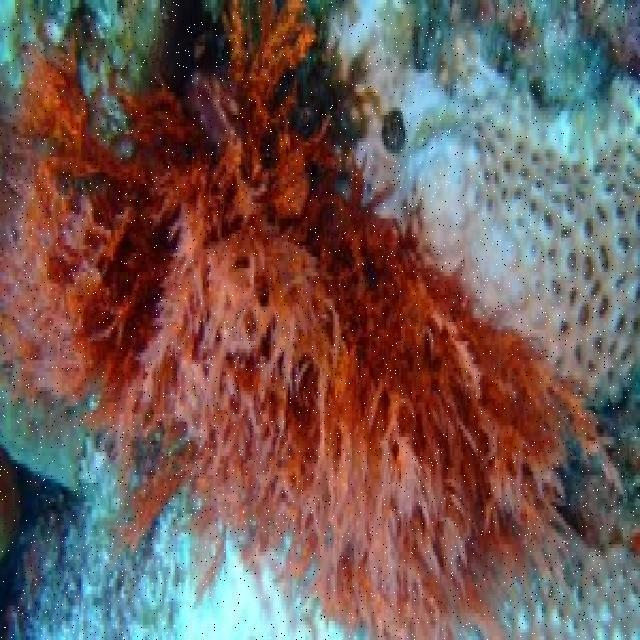Bleached: (330, 1, 640, 404), (1, 396, 338, 640), (6, 1, 167, 152), (494, 545, 639, 640)
Healthy: (1, 1, 640, 640)
